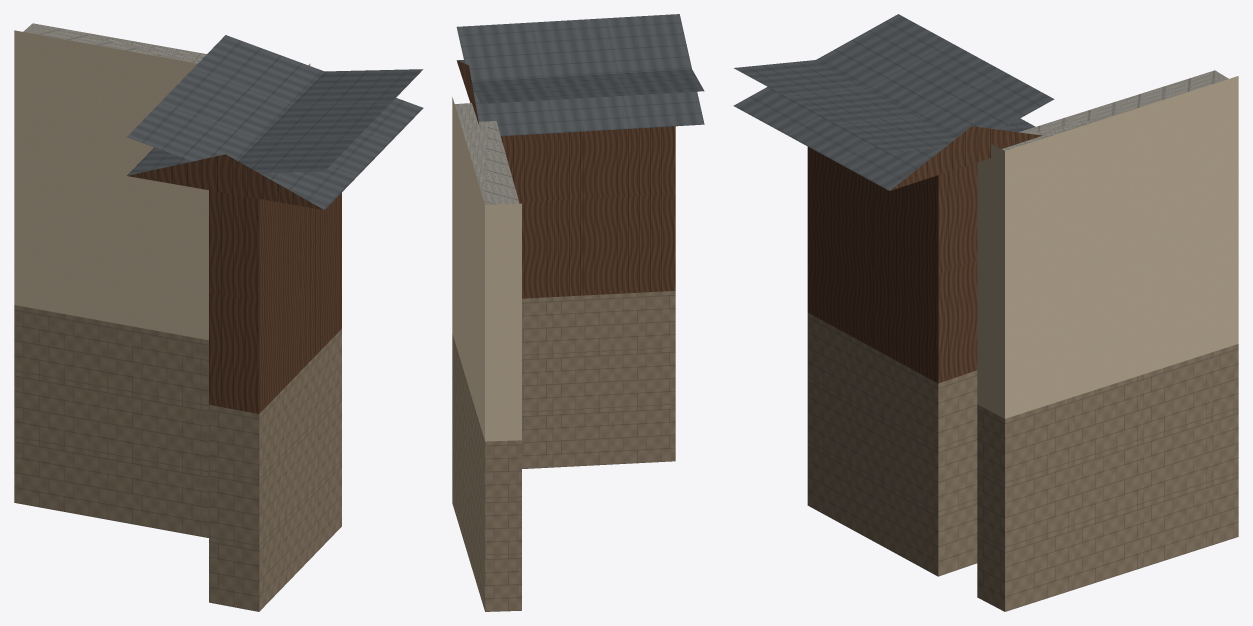
Rendered from bld_c16_25_402.gltf.
The picture shows the model from 3 angles, left to right: view 1: azimuth 30°, elevation 25°; view 2: azimuth 150°, elevation 25°; view 3: azimuth 270°, elevation 25°; orthographic projection. The views are drawn at different scales.
Visible parts, largest first — view 1: bld_c16_25_402; view 2: bld_c16_25_402; view 3: bld_c16_25_402.
Part boxes in pixels (x1,y1,x2,y2): bld_c16_25_402: (14, 23, 423, 611); bld_c16_25_402: (452, 14, 704, 611); bld_c16_25_402: (733, 14, 1238, 611).
Size of the model in its own units: 7.89 by 12.8 by 12.1.
Materials: 7 (7 with a texture image).
